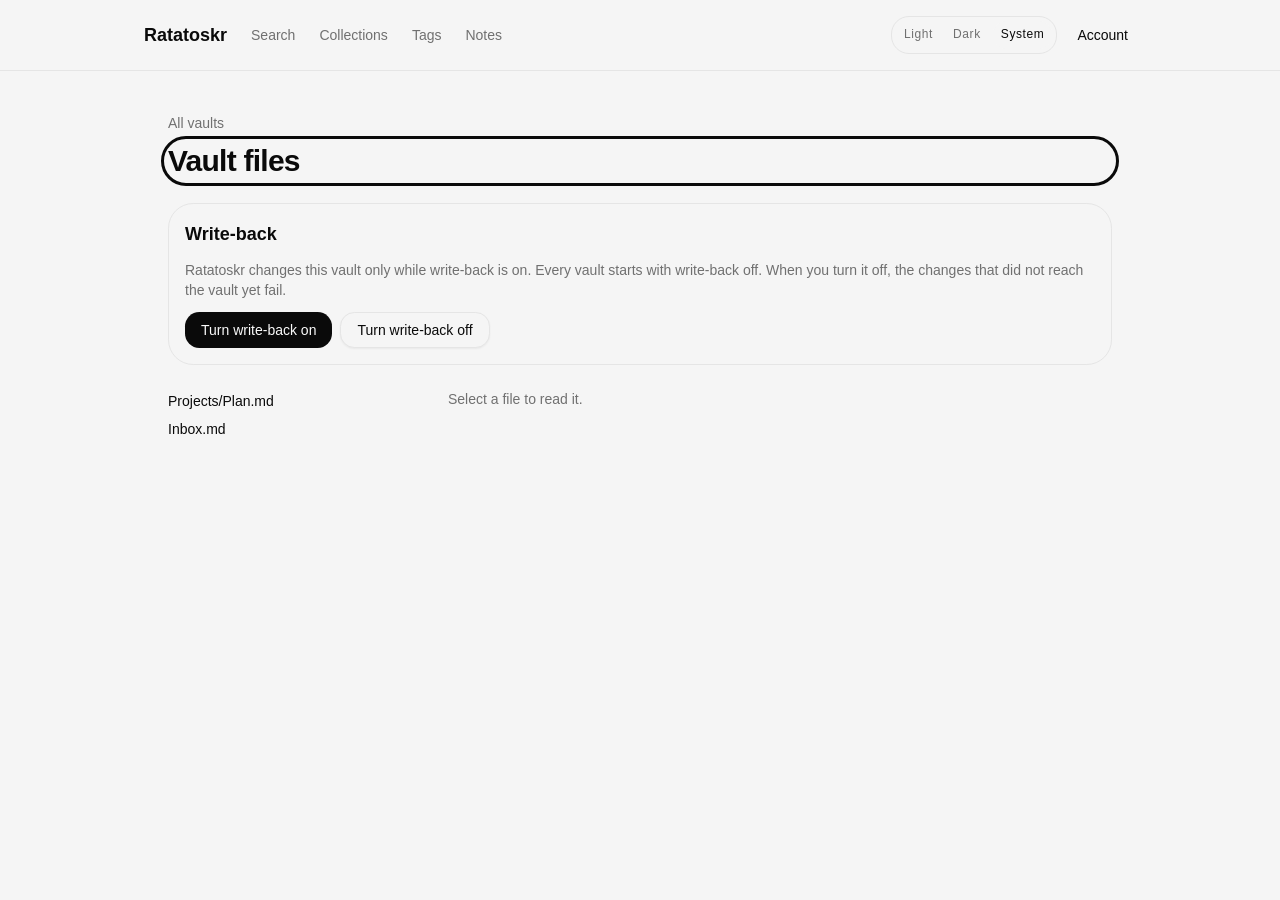
it: the notes vault browse › a file shows its text and its backlinks and cannot be edited
What coordinates should you click on to do the following:
click the link "Projects/Plan.md"
I would click on:
 (221, 401)
Its box is [168,393,274,409].
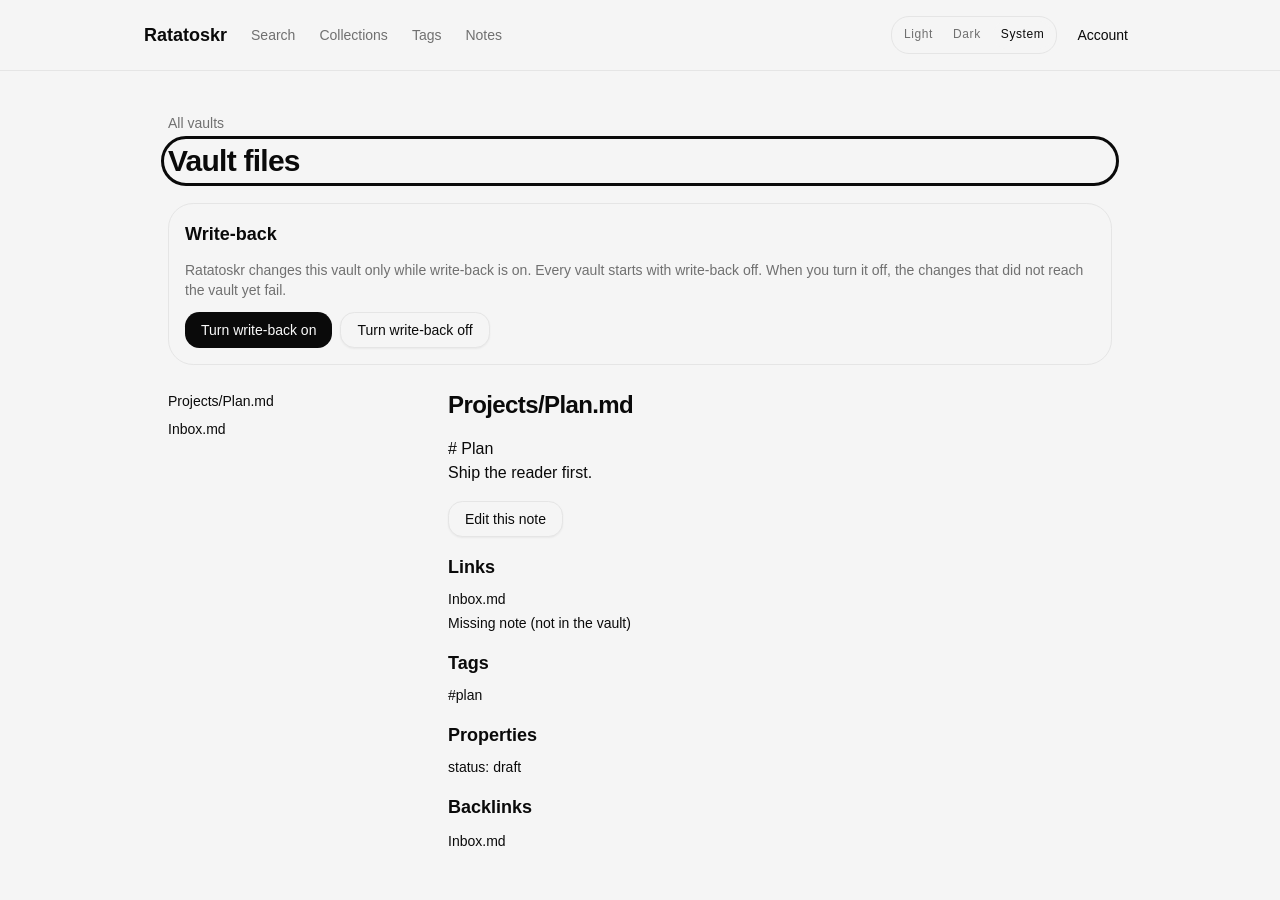
Result: the text "# Plan Ship the reader first." is shown at [448,440,592,481]
Result: the link "Inbox.md" below "Backlinks" is shown at [448,833,506,849]
